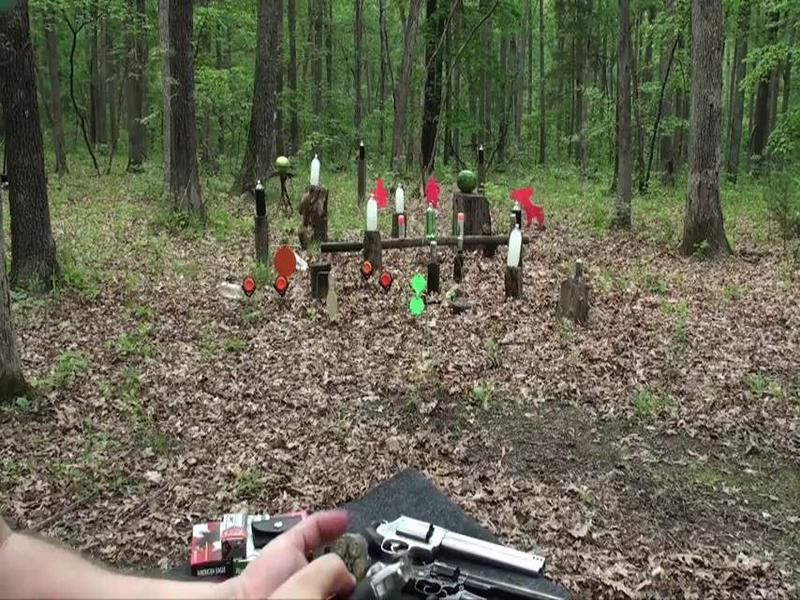Revolver: (365, 498, 561, 592)
